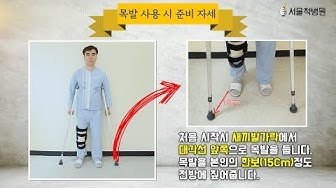crutches: (59, 45, 119, 168)
